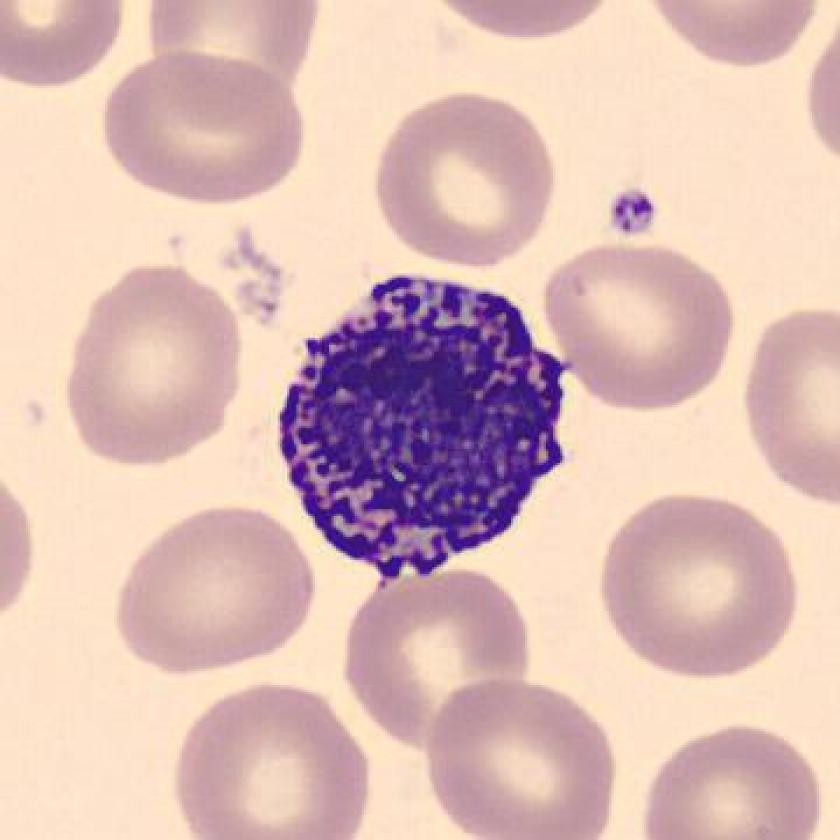basophil: (276, 265, 575, 591)
